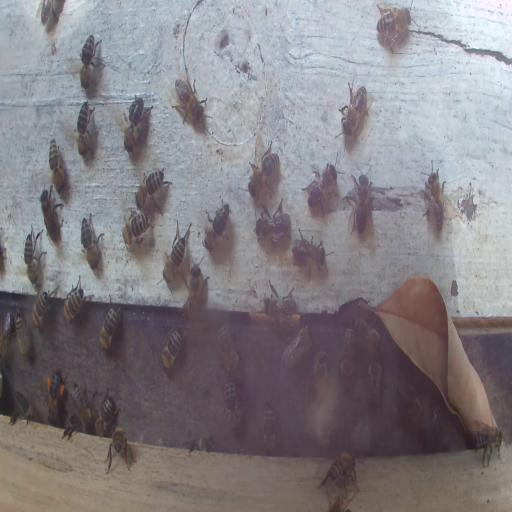nonpollenbee: (337, 77, 373, 144), (344, 169, 374, 238), (248, 135, 280, 199), (172, 77, 208, 133), (374, 4, 416, 50), (292, 230, 329, 281), (256, 197, 291, 250), (258, 282, 302, 324), (134, 166, 172, 214), (202, 200, 232, 260), (74, 98, 99, 166), (78, 32, 106, 92), (165, 219, 192, 281), (302, 164, 338, 210), (423, 161, 446, 233), (122, 94, 148, 157), (472, 421, 506, 468), (39, 184, 64, 245), (318, 453, 359, 490), (216, 320, 241, 380), (80, 213, 104, 275), (24, 222, 46, 288), (280, 324, 312, 369), (364, 357, 386, 422), (185, 264, 206, 331), (309, 347, 329, 416), (396, 381, 424, 429), (105, 426, 134, 472), (338, 320, 358, 386), (62, 275, 89, 323), (98, 297, 122, 351), (354, 315, 384, 358), (121, 210, 151, 248), (222, 380, 241, 434), (96, 390, 118, 436), (160, 326, 182, 372), (72, 380, 92, 430), (31, 286, 53, 330), (49, 138, 65, 194), (263, 400, 277, 458), (16, 308, 30, 360), (62, 414, 88, 436), (187, 435, 213, 453), (15, 392, 30, 421)
pollenbee: (45, 367, 65, 424)
